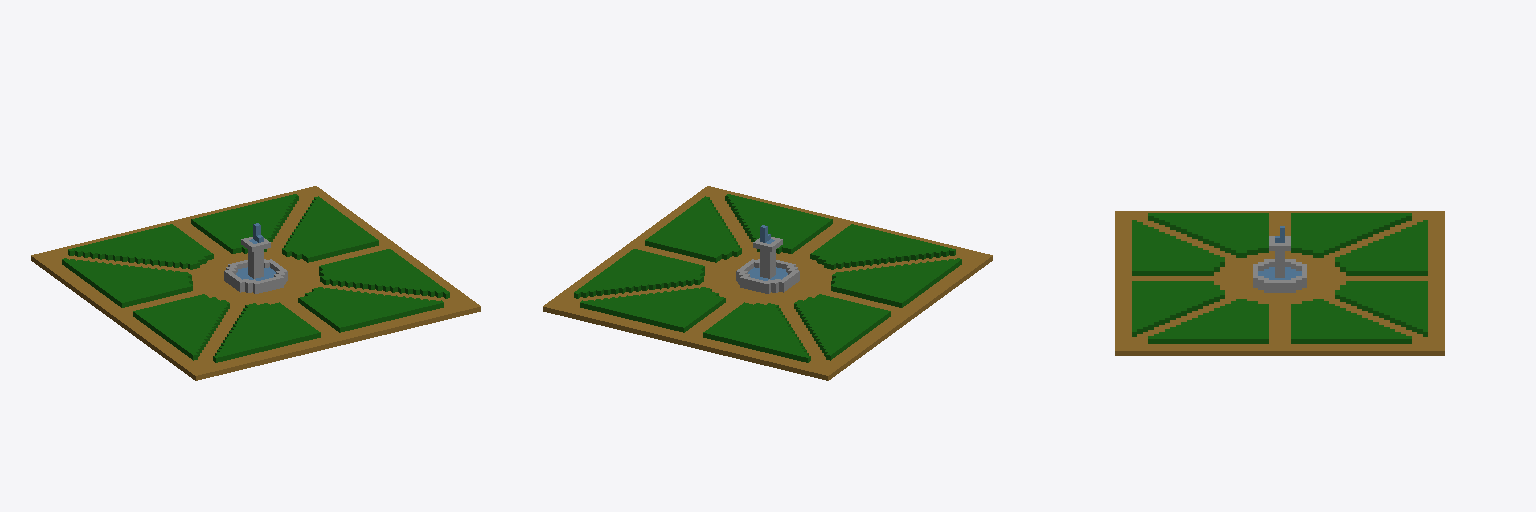
3 renders of one model, left to right at view 1: azimuth 30°, elevation 25°; view 2: azimuth 150°, elevation 25°; view 3: azimuth 270°, elevation 25°, orthographic.
Visible parts, largest first — view 1: object 1; view 2: object 1; view 3: object 1.
Boxes of the visible parts, box(x1,y1,x2,y2) form: object 1: box(31, 186, 480, 380); object 1: box(543, 186, 992, 380); object 1: box(1115, 211, 1444, 355).
Size of the model in its own units: 6 by 1.2 by 6.
1 materials, 1 textured.